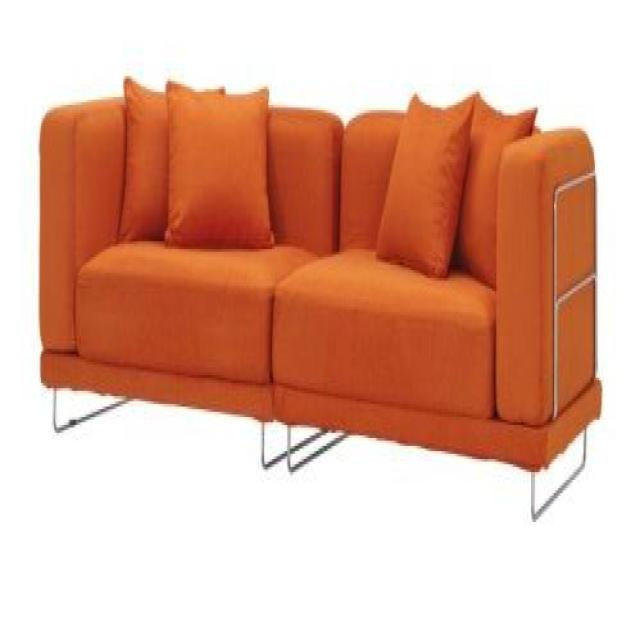sofa: (36, 79, 603, 524)
